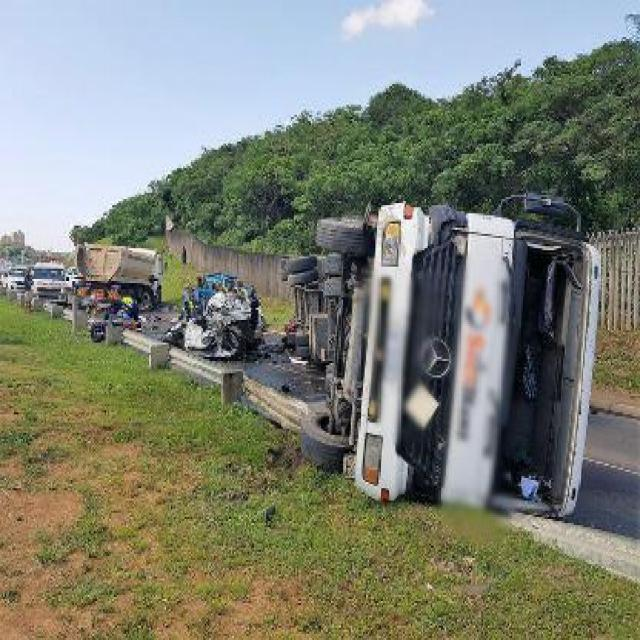accident: (280, 189, 606, 513)
